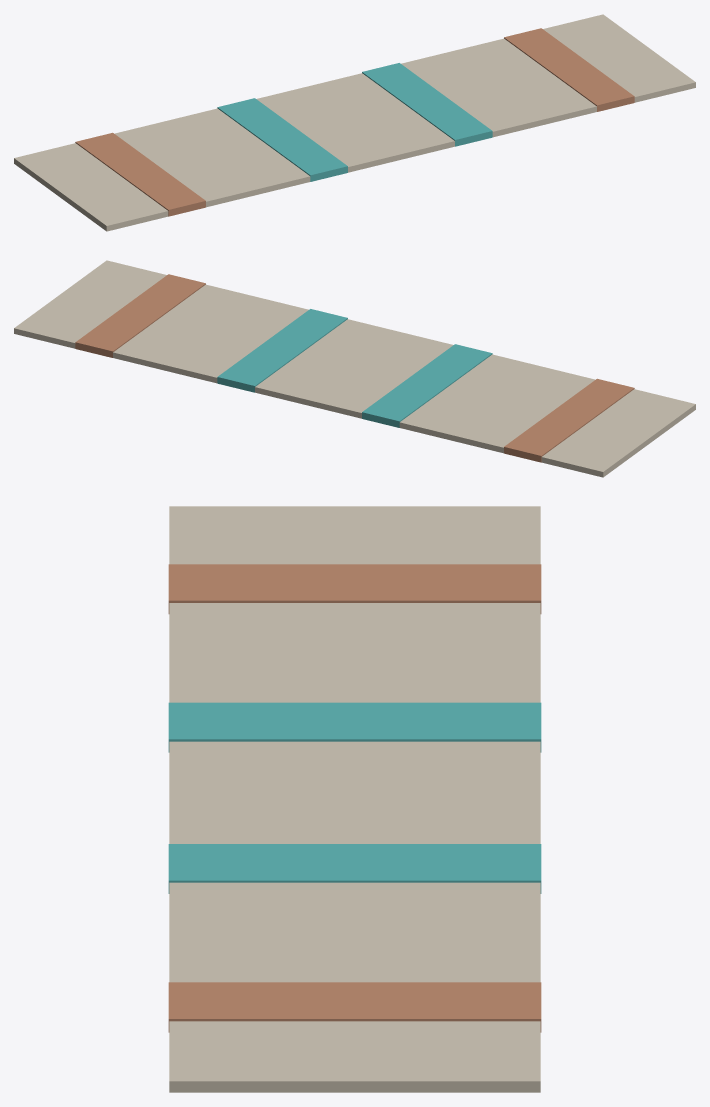
The model's file is piso_passadeira_cozinha.glb.
3 views of the same model, one above another, from view 1: azimuth 30°, elevation 25°; view 2: azimuth 150°, elevation 25°; view 3: azimuth 270°, elevation 25° (orthographic). The views are drawn at different scales.
Visible parts, largest first — view 1: PISO_PASSADEIRA_COZINHA_v01; view 2: PISO_PASSADEIRA_COZINHA_v01; view 3: PISO_PASSADEIRA_COZINHA_v01.
Boxes of the visible parts, <box> form: PISO_PASSADEIRA_COZINHA_v01: <box>14,14,695,231</box>; PISO_PASSADEIRA_COZINHA_v01: <box>14,260,695,477</box>; PISO_PASSADEIRA_COZINHA_v01: <box>168,506,541,1092</box>.
Size of the model in its own units: 2.2 by 0.024 by 0.602.
